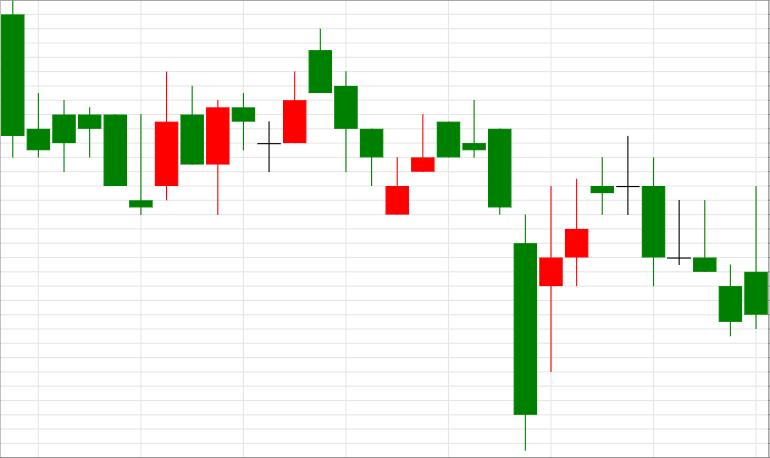inverse_hammer_rise: (591, 136, 767, 336)
morning_star_rise: (1, 1, 178, 215)
